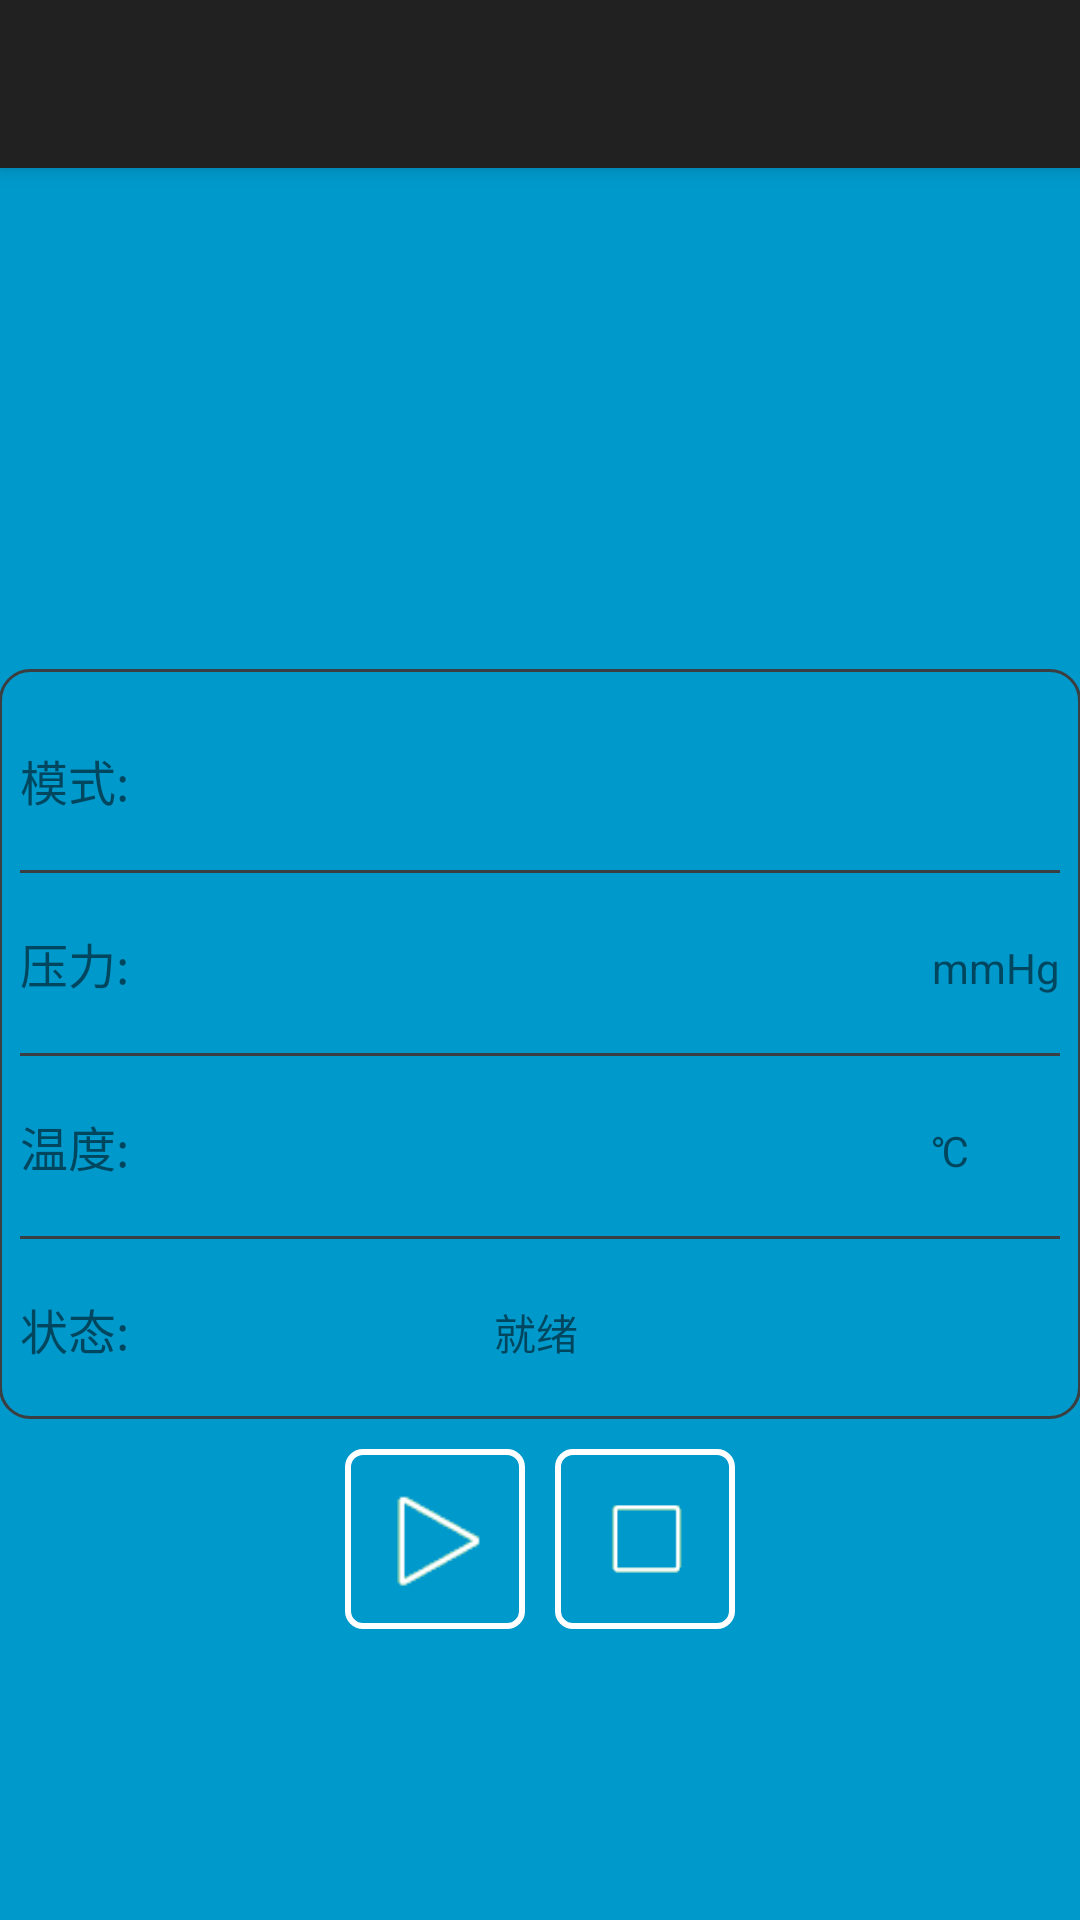

Where to tap for icons on this 1080px x 1920px app screen, as (x=x, y=y):
start: (x=435, y=1539)
stop: (x=645, y=1539)
